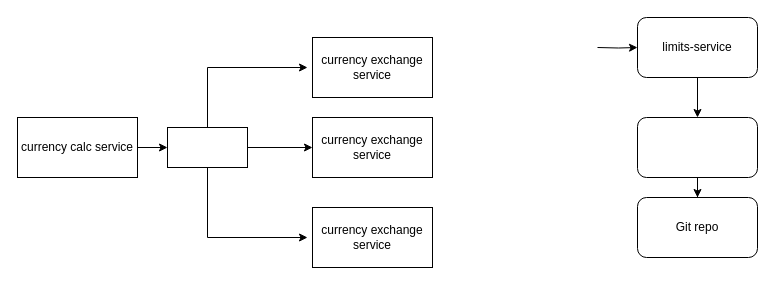
Some shapes in this 775 by 285 pixel diagram are drawn without their labels. The centre of each missing label's shape, as x and y in pixels:
"Ribbon" goes at (x=207, y=147).
"spring cloud config server" goes at (x=697, y=147).
